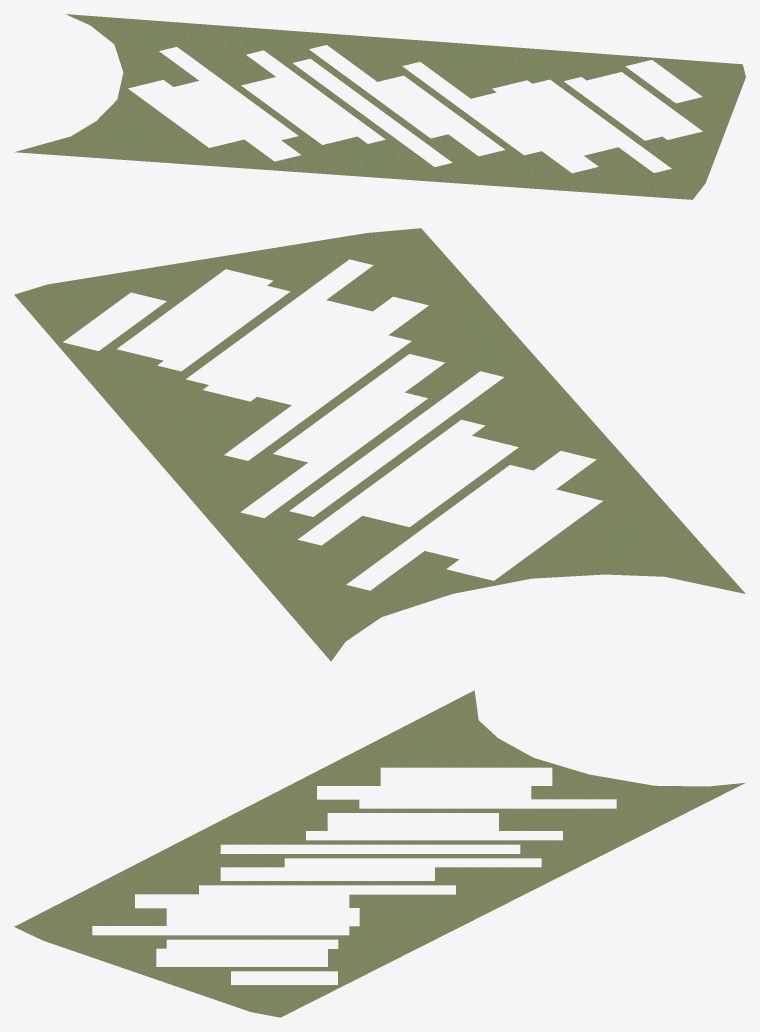
Rendered from SITE_GRASS.fbx.
3 views of the same model, one above another, from view 1: azimuth 30°, elevation 25°; view 2: azimuth 150°, elevation 25°; view 3: azimuth 270°, elevation 25° (orthographic). The views are drawn at different scales.
Parts seen in each view (by area): view 1: GRASS; view 2: GRASS; view 3: GRASS.
Part boxes in pixels (<box>): GRASS: <box>14,14,745,199</box>; GRASS: <box>14,228,745,661</box>; GRASS: <box>14,690,744,1017</box>.
Size of the model in its own units: 1448 by 1368 by 7.22e-10.
Materials: 1 (1 with a texture image).
